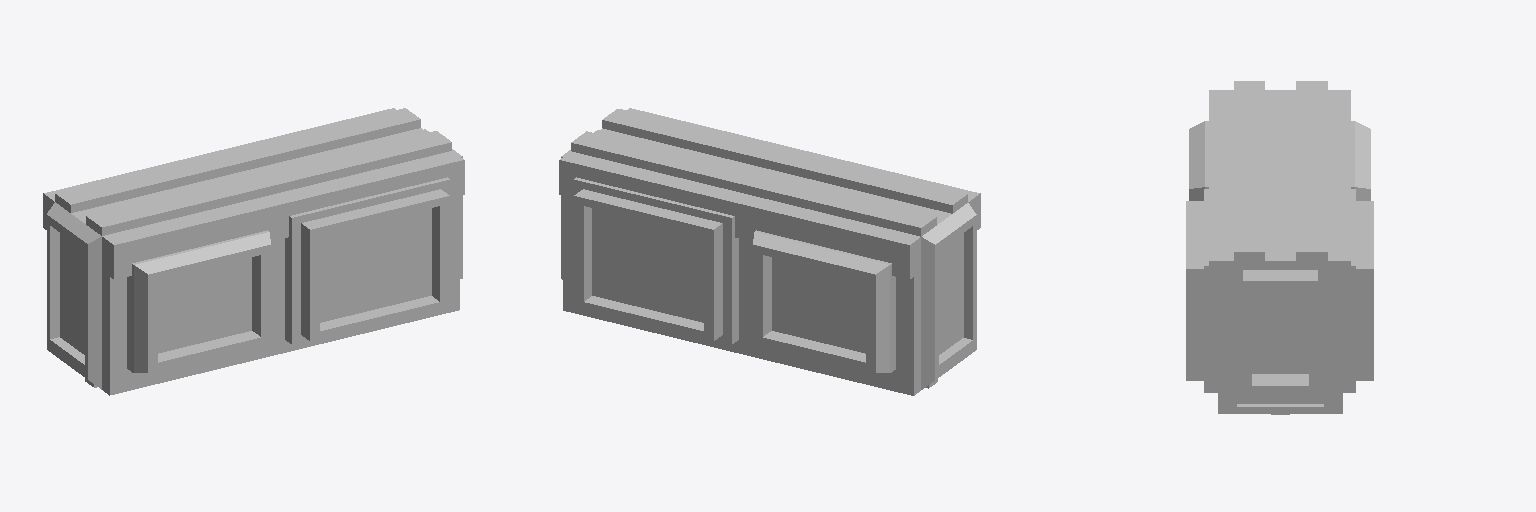
The model's file is Train.obj.
3 views of the same model, side by side, from view 1: azimuth 30°, elevation 25°; view 2: azimuth 150°, elevation 25°; view 3: azimuth 270°, elevation 25° (orthographic).
Visible parts, largest first — view 1: Cube.014_Cube; view 2: Cube.014_Cube; view 3: Cube.014_Cube.
Boxes of the visible parts, x1=… form: Cube.014_Cube: x1=43, y1=108, x2=464, y2=395; Cube.014_Cube: x1=559, y1=108, x2=980, y2=395; Cube.014_Cube: x1=1186, y1=81, x2=1373, y2=414.
Bounding box in the file's own units: 46.79 × 21 × 20.26.